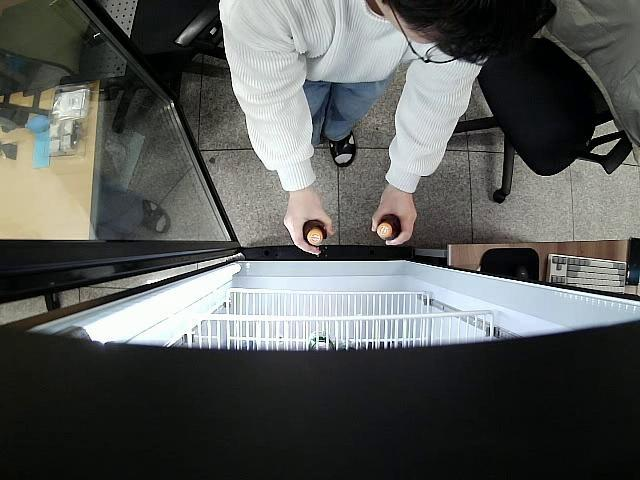17_vita500: (302, 219, 328, 248), (376, 213, 402, 242)
